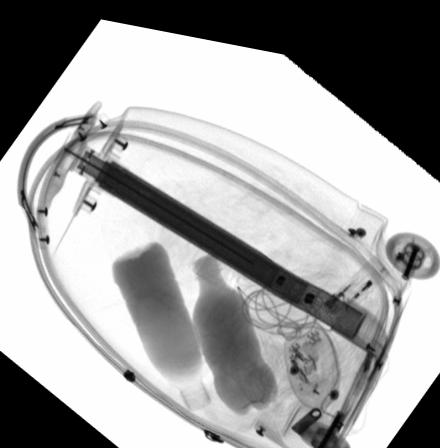Lighter: (323, 241, 392, 309)
